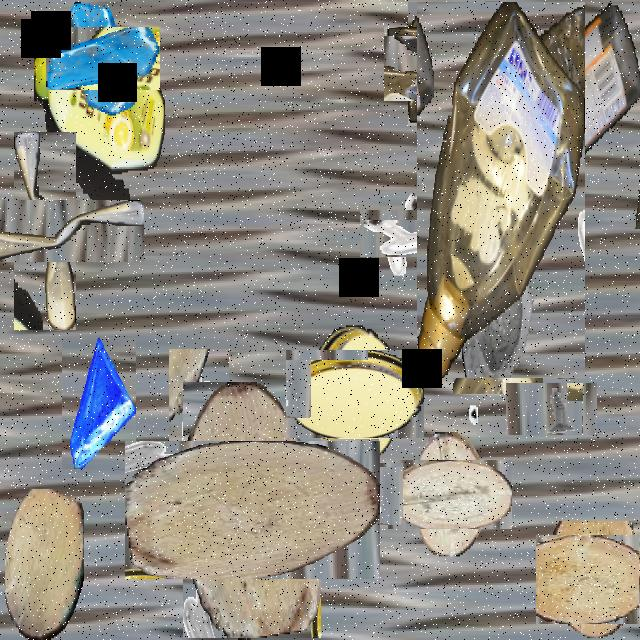glass: (453, 234, 543, 394), (62, 338, 136, 469), (59, 14, 148, 103)
metal: (305, 451, 391, 537), (169, 349, 229, 455), (515, 373, 587, 445), (369, 200, 436, 266), (428, 354, 478, 442)
plastic: (417, 2, 585, 378), (34, 32, 164, 213), (568, 2, 640, 229), (0, 165, 110, 296), (298, 338, 412, 451), (396, 14, 494, 114)
wood: (154, 412, 350, 608), (5, 489, 83, 638), (543, 527, 640, 631), (402, 445, 498, 543)
